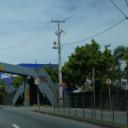Pare: (61, 81, 67, 88)
speed_limit_70: (34, 77, 42, 86)
